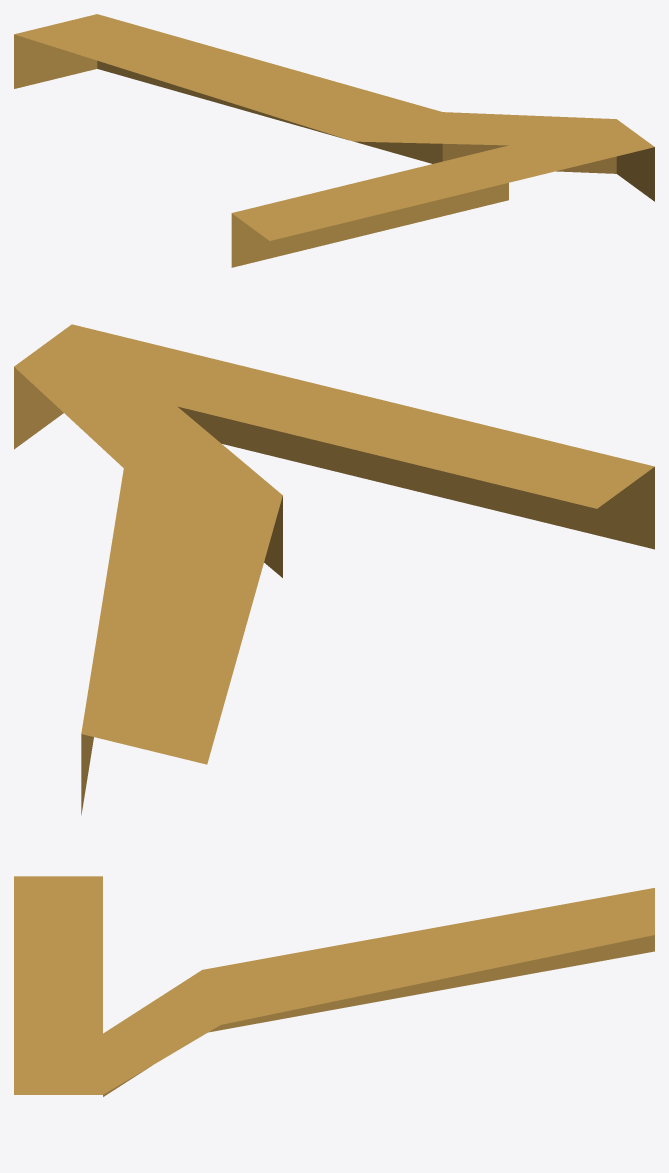
The model's file is fragment.glb.
3 views of the same model, one above another, from view 1: azimuth 30°, elevation 25°; view 2: azimuth 150°, elevation 25°; view 3: azimuth 270°, elevation 25° (orthographic). The views are drawn at different scales.
Parts seen in each view (by area): view 1: Number 7; view 2: Number 7; view 3: Number 7.
Boxes of the visible parts, <box> form: Number 7: <box>14,14,654,267</box>; Number 7: <box>14,324,654,815</box>; Number 7: <box>14,876,654,1096</box>.
Size of the model in its own units: 2.5 by 0.34 by 3.1.
